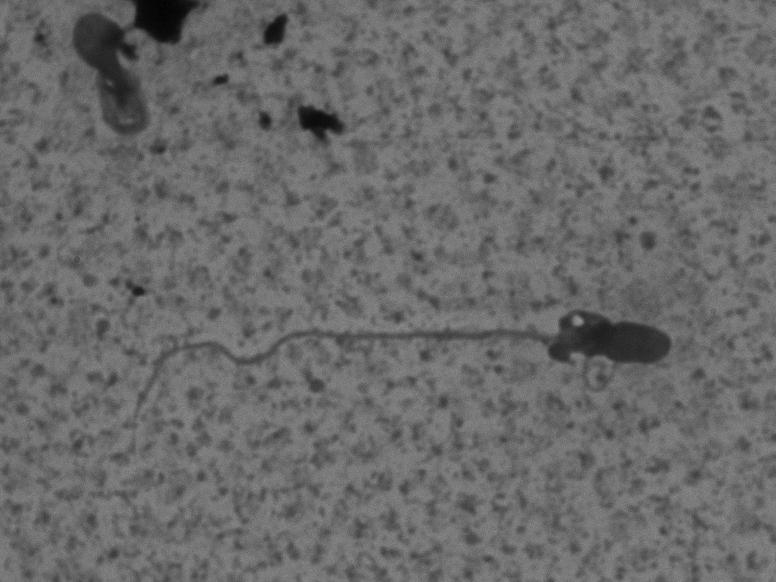Abnormal: (90, 289, 710, 425)
